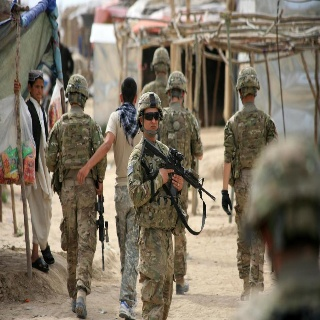rifle: (137, 137, 217, 209)
